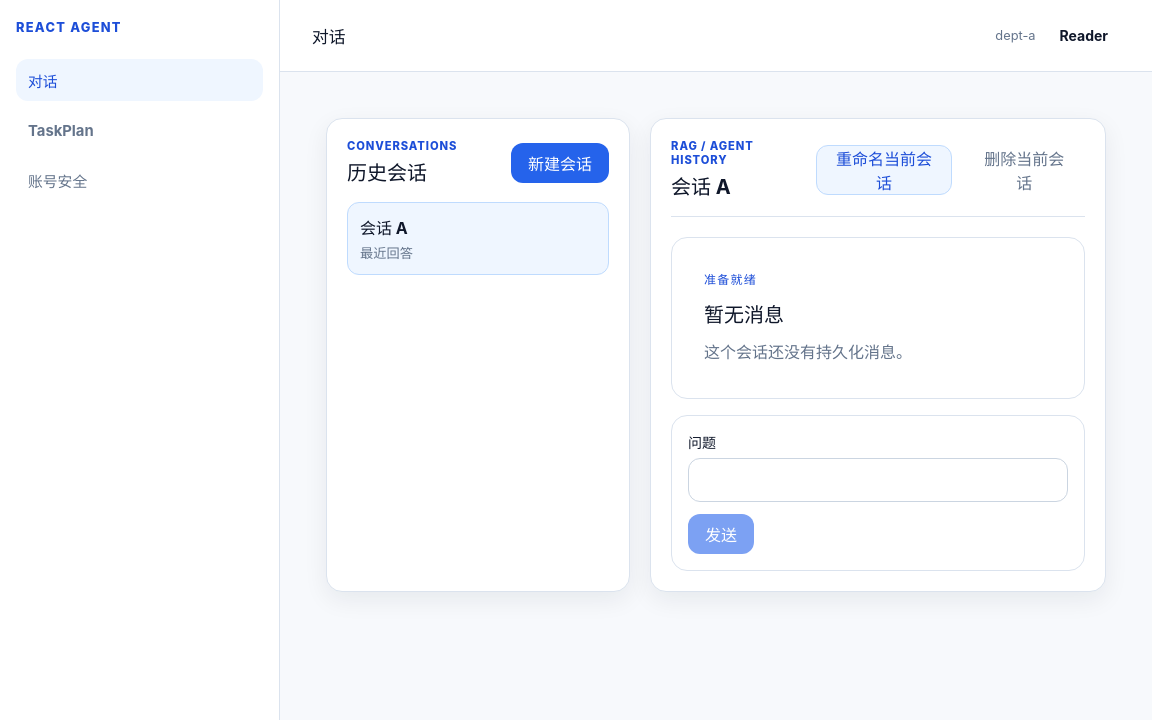
it: Conversations workspace › keeps the rename dialog open and shows a safe form-level failure
Expected: the heading "会话 A" is shown, [671,175,731,199]
Click the button "重命名当前会话". click: click(884, 170)
box: [816,145,952,195]
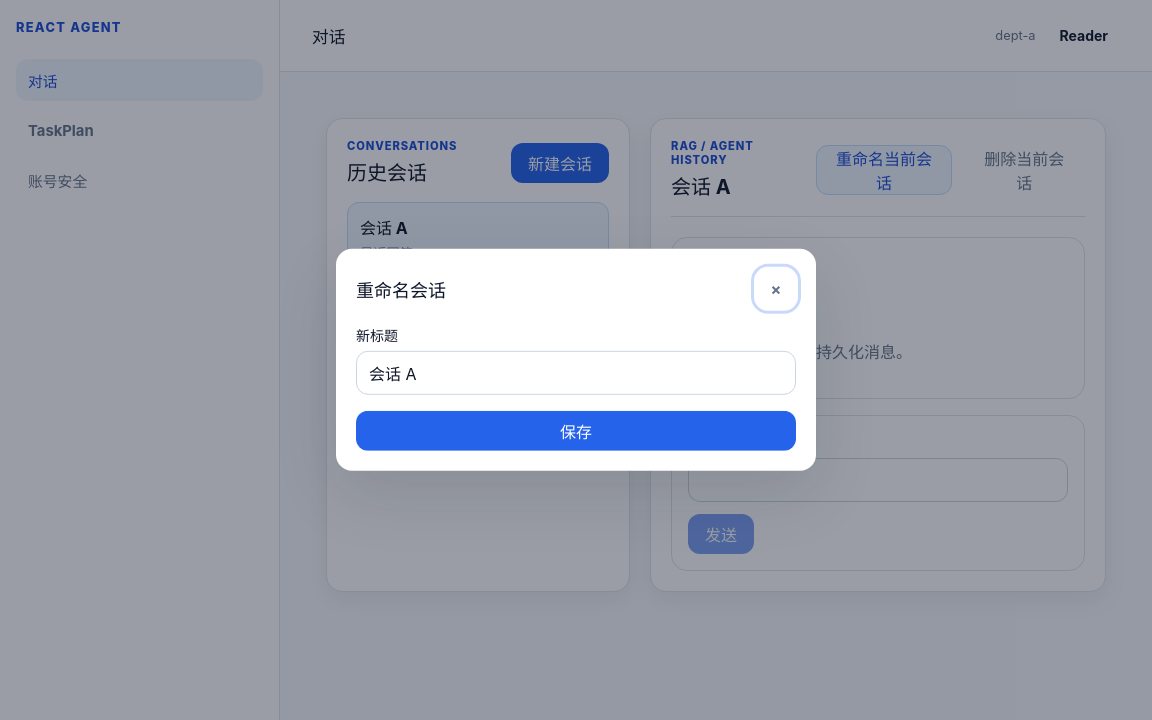
Click the button "保存". click: click(576, 431)
box: [356,411,796,451]
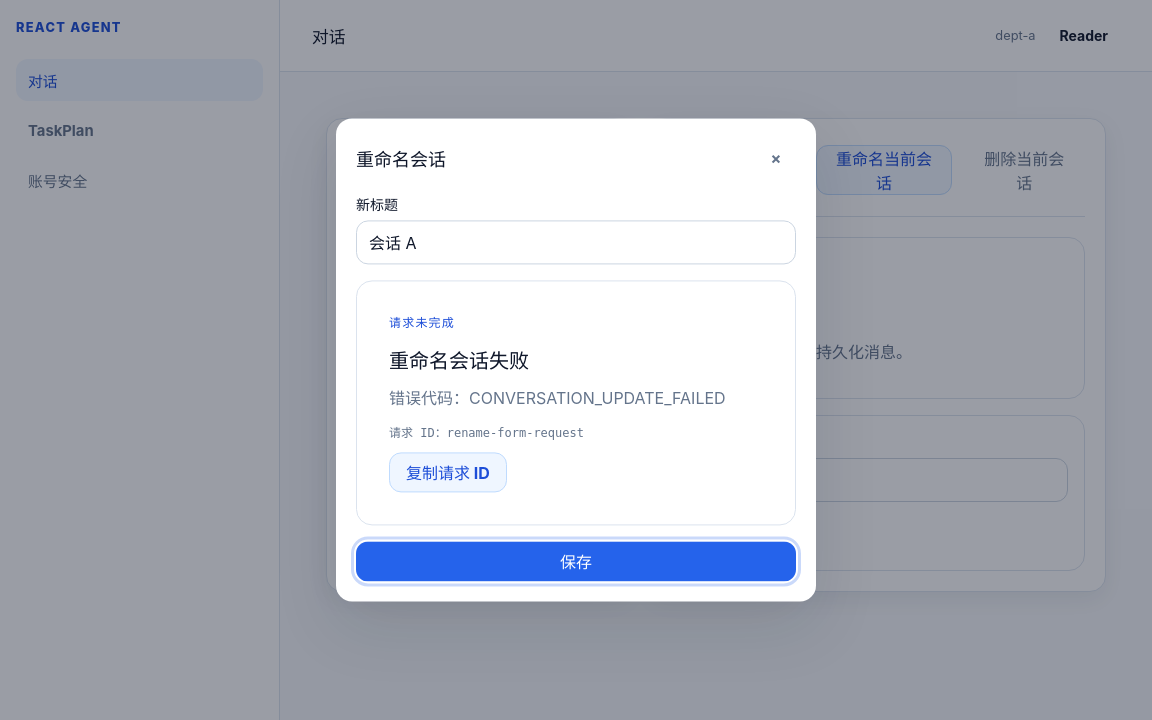
Result: the heading "重命名会话失败" is shown at [389,345,529,374]
Result: the text "请求 ID：rename-form-request" is shown at [389,424,584,441]
